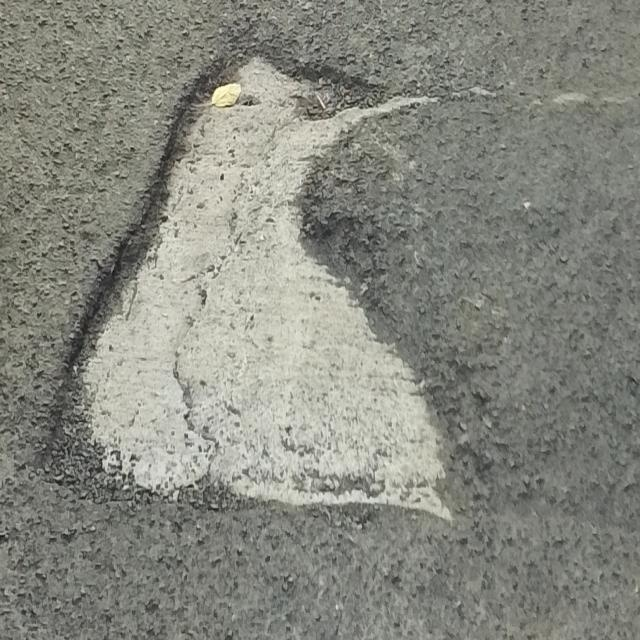pothole: (53, 31, 480, 533)
